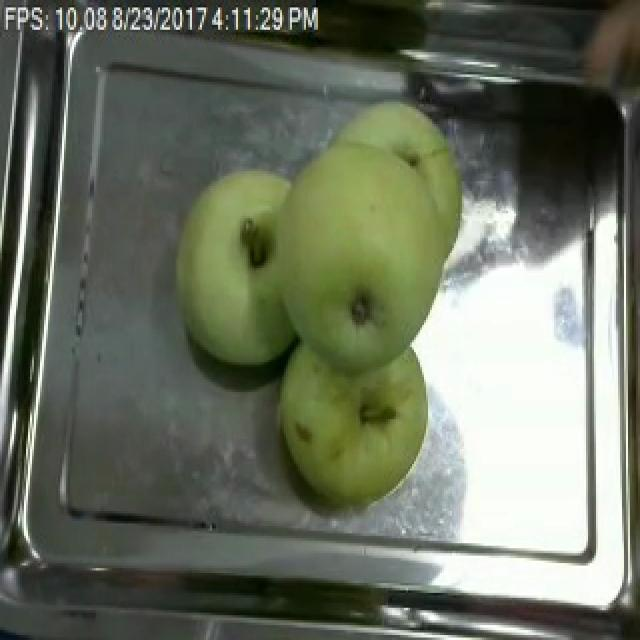50-_ripeness: (280, 144, 452, 365), (153, 167, 333, 366), (275, 303, 430, 523)
